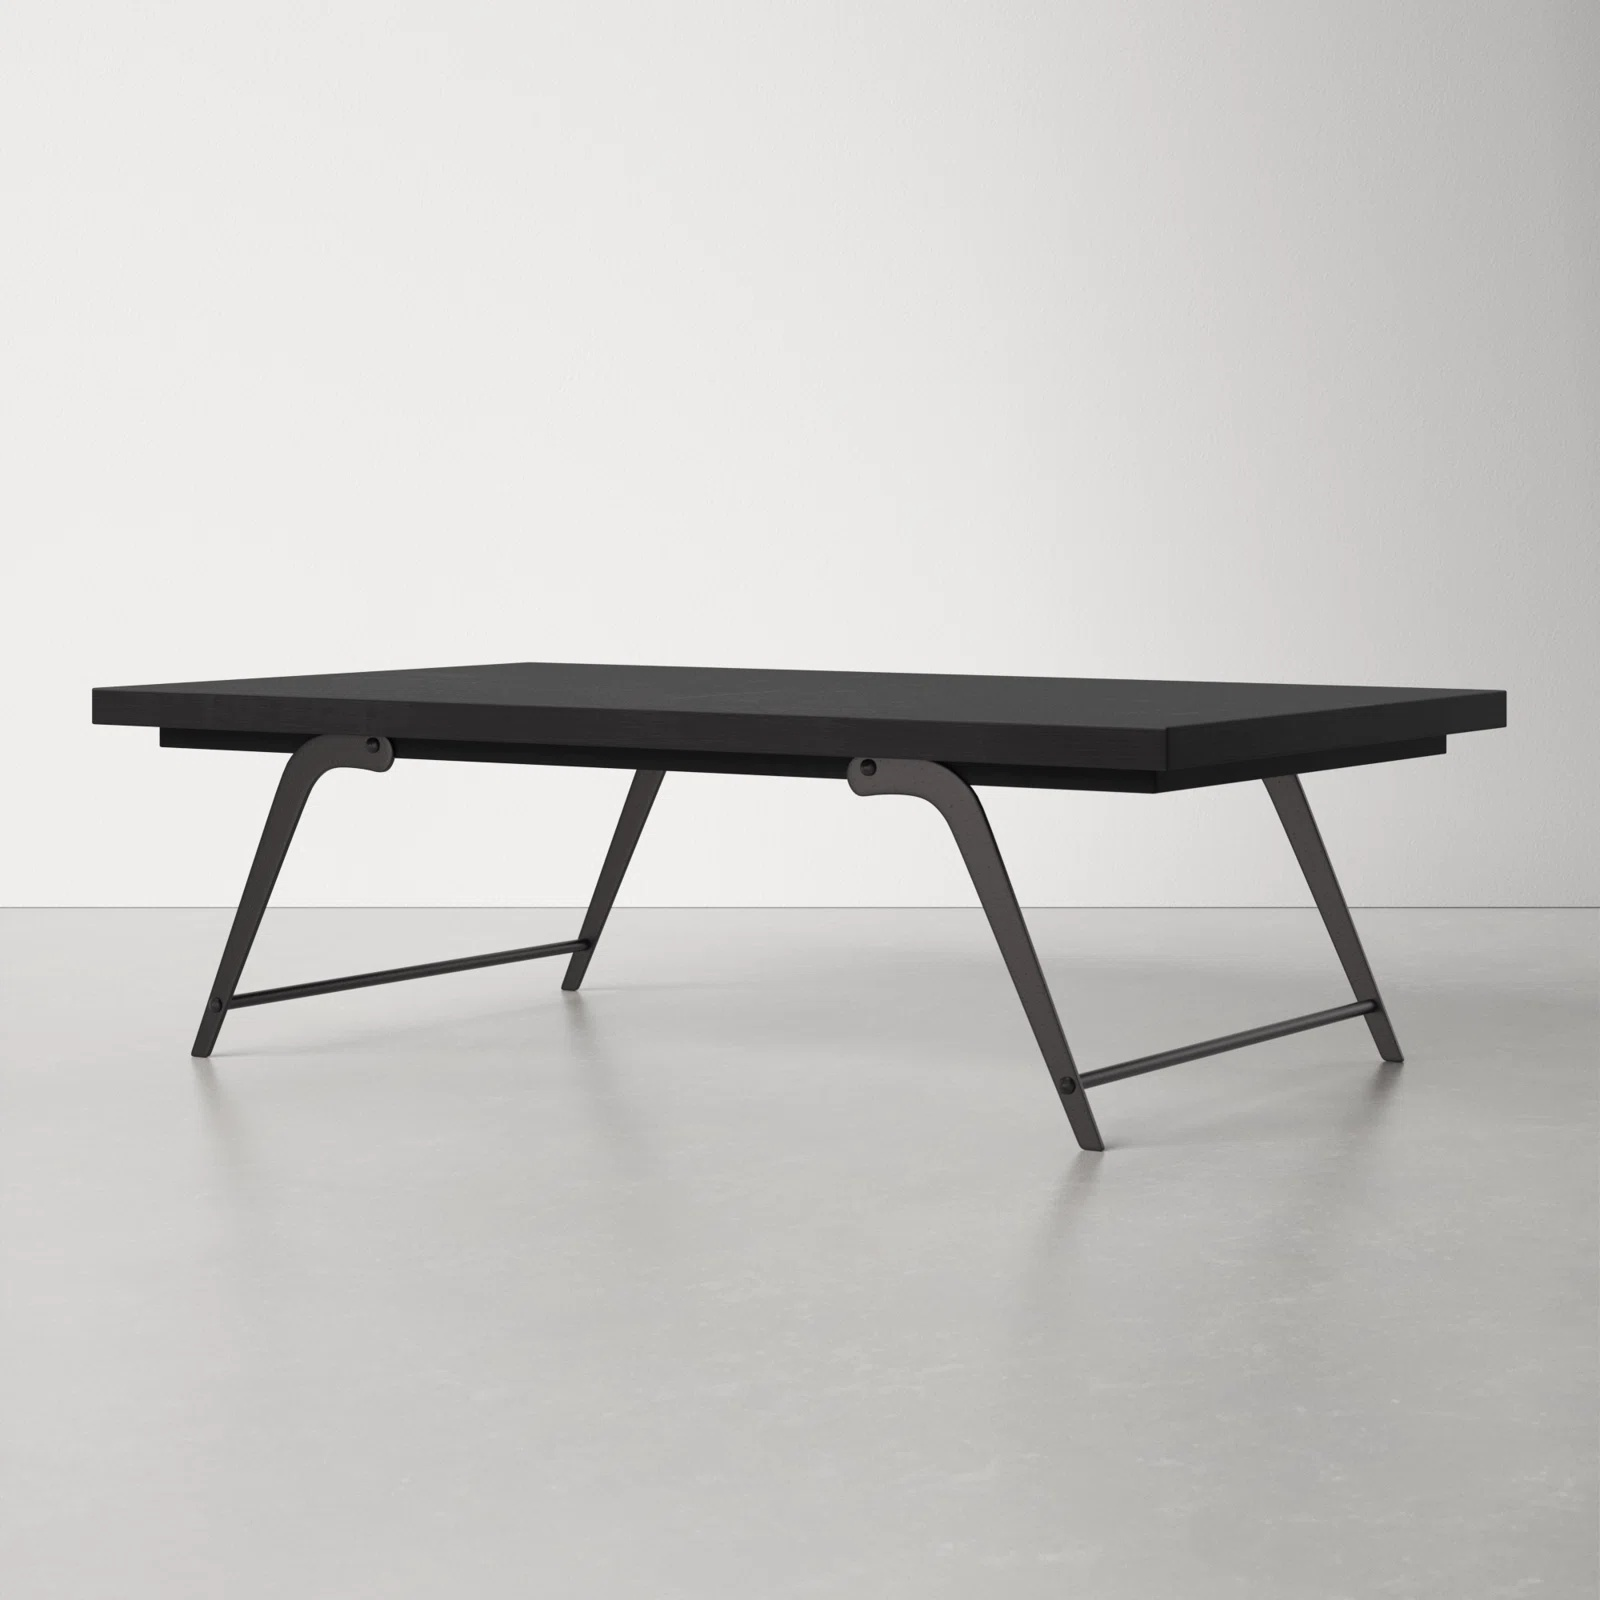obstacle: (92, 662, 1505, 1150)
